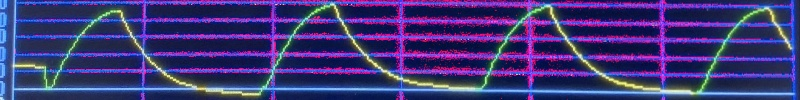normal_volume: (36, 0, 794, 96)
